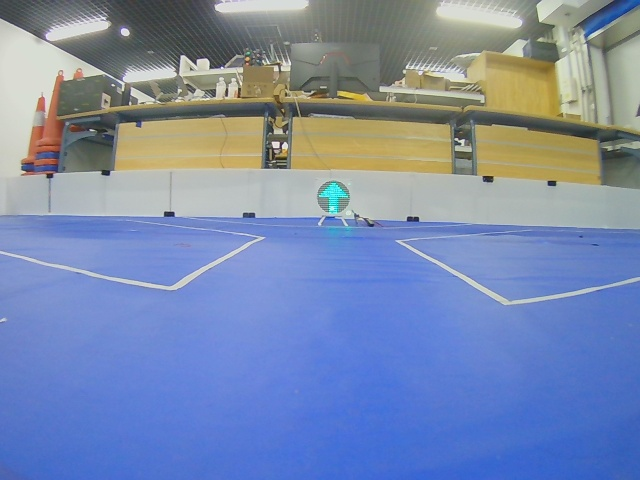straight_green: (314, 179, 350, 215)
